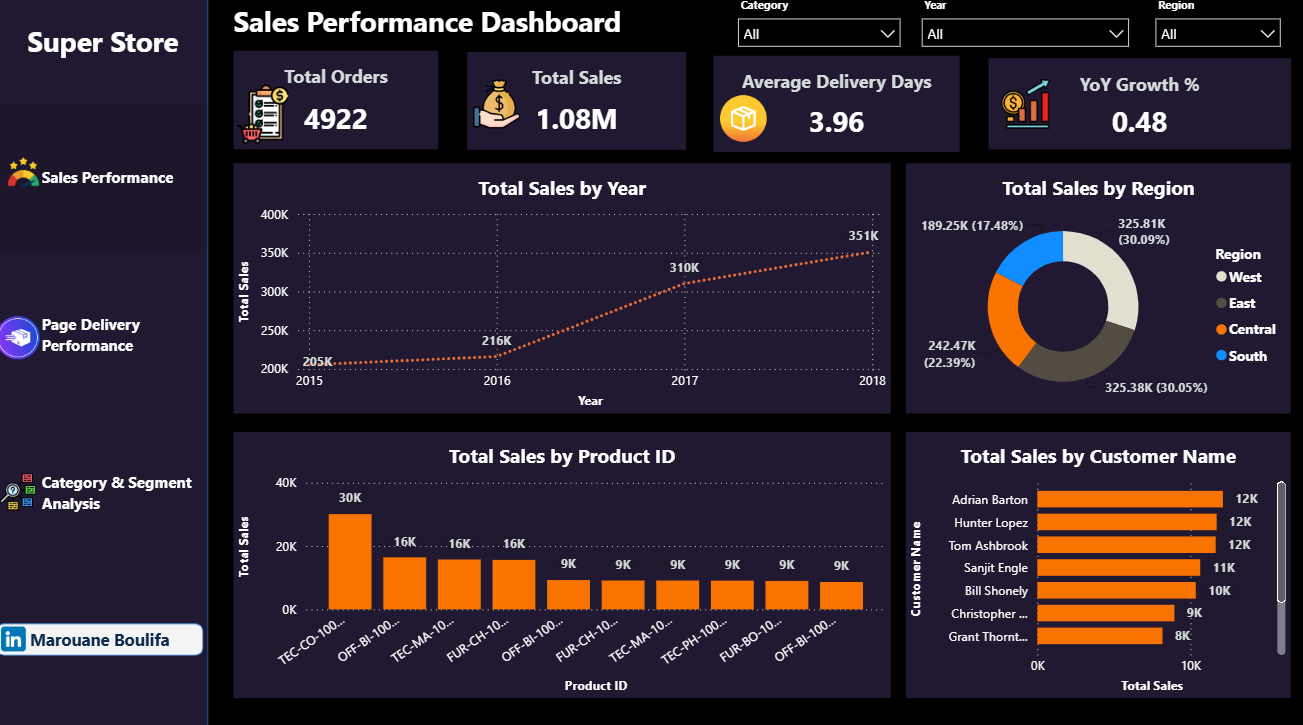

The page's visual inventory and layout, read from the dashboard file:
{"tool":"powerbi","page":{"name":"Sales Performance ","canvas":[1280,720],"ordinal":0},"visuals":[{"type":"card","title":"Total Sales","fields":{"Values":["Date_Table.Total Sales"]},"box":[459.7,57.9,211.1,94.1],"z":0},{"type":"card","title":"YoY Growth %","fields":{"Values":["Date_Table.YoY Growth %"]},"box":[962.7,63.9,292,88.1],"z":1000},{"type":"lineChart","fields":{"Y":["Date_Table.Total Sales"],"Category":["Date_Table.Year"]},"box":[234,165.3,634.6,241.3],"z":2000},{"type":"slicer","fields":{"Values":["Date_Table.Year"]},"box":[887.9,0,220.8,61.5],"z":3000},{"type":"clusteredColumnChart","fields":{"Category":["train_clean.Product ID"],"Y":["Date_Table.Total Sales"]},"box":[234,424.7,634.6,257],"z":4000},{"type":"clusteredBarChart","fields":{"Y":["Date_Table.Total Sales"],"Category":["train_clean.Customer Name"]},"box":[883.1,424.7,371.6,257],"z":5000},{"type":"donutChart","fields":{"Category":["train_clean.Region"],"Y":["Date_Table.Total Sales"]},"box":[883.1,165.3,371.6,241.3],"z":6000},{"type":"slicer","fields":{"Values":["train_clean.Category"]},"box":[710.6,0,177.3,60.3],"z":7000},{"type":"slicer","fields":{"Values":["train_clean.Region"]},"box":[1113.5,0,141.2,60.3],"z":8000},{"type":"card","title":"Total Orders","fields":{"Values":["Date_Table.Total Orders"]},"box":[234,56.7,197.9,95.3],"z":9000},{"type":"shape","box":[234,0,436.7,54.3],"z":10000},{"type":"card","title":"Average Delivery Days","fields":{"Values":["Date_Table.Average Delivery Days"]},"box":[697.7,61.4,237.7,92.9],"z":11000},{"type":"shape","box":[0,0,209.9,720.2],"z":12000},{"type":"shape","box":[0,16.9,216,59.1],"z":13000},{"type":"image","box":[970,76,57.9,63.9],"z":14000},{"type":"pageNavigator","box":[0,107.4,205.1,448.8],"z":15000},{"type":"image","box":[10.9,152,41,44.6],"z":16000},{"type":"image","box":[459.7,79.6,56.7,56.7],"z":17000},{"type":"image","box":[0,306.4,51.9,54.3],"z":18000},{"type":"image","box":[697.3,89.3,57.9,65.1],"z":19000},{"type":"image","box":[226.8,84.5,71.2,67.6],"z":20000},{"type":"image","box":[0,459.7,51.9,45.8],"z":21000},{"type":"shape","box":[4.8,609.3,200.3,31.4],"z":21001},{"type":"image","box":[4.8,606.8,33.8,35],"z":21002}]}

Visuals, with their boxes on the page's 1280x720 design canvas (x1, y1, x2, y2). These are canvas units, not pixel positions in the 1303x725 screenshot, which may show the page scaled, cropped or inside an application window:
"Total Sales" card: crop(460, 58, 671, 152)
"YoY Growth %" card: crop(963, 64, 1255, 152)
lineChart - Date_Table.Total Sales x Date_Table.Year: crop(234, 165, 869, 407)
slicer - Date_Table.Year: crop(888, 0, 1109, 62)
clusteredColumnChart - train_clean.Product ID x Date_Table.Total Sales: crop(234, 425, 869, 682)
clusteredBarChart - Date_Table.Total Sales x train_clean.Customer Name: crop(883, 425, 1255, 682)
donutChart - train_clean.Region x Date_Table.Total Sales: crop(883, 165, 1255, 407)
slicer - train_clean.Category: crop(711, 0, 888, 60)
slicer - train_clean.Region: crop(1114, 0, 1255, 60)
"Total Orders" card: crop(234, 57, 432, 152)
shape: crop(234, 0, 671, 54)
"Average Delivery Days" card: crop(698, 61, 935, 154)
shape: crop(0, 0, 210, 720)
shape: crop(0, 17, 216, 76)
image: crop(970, 76, 1028, 140)
pageNavigator: crop(0, 107, 205, 556)
image: crop(11, 152, 52, 197)
image: crop(460, 80, 516, 136)
image: crop(0, 306, 52, 361)
image: crop(697, 89, 755, 154)
image: crop(227, 84, 298, 152)
image: crop(0, 460, 52, 506)
shape: crop(5, 609, 205, 641)
image: crop(5, 607, 39, 642)
